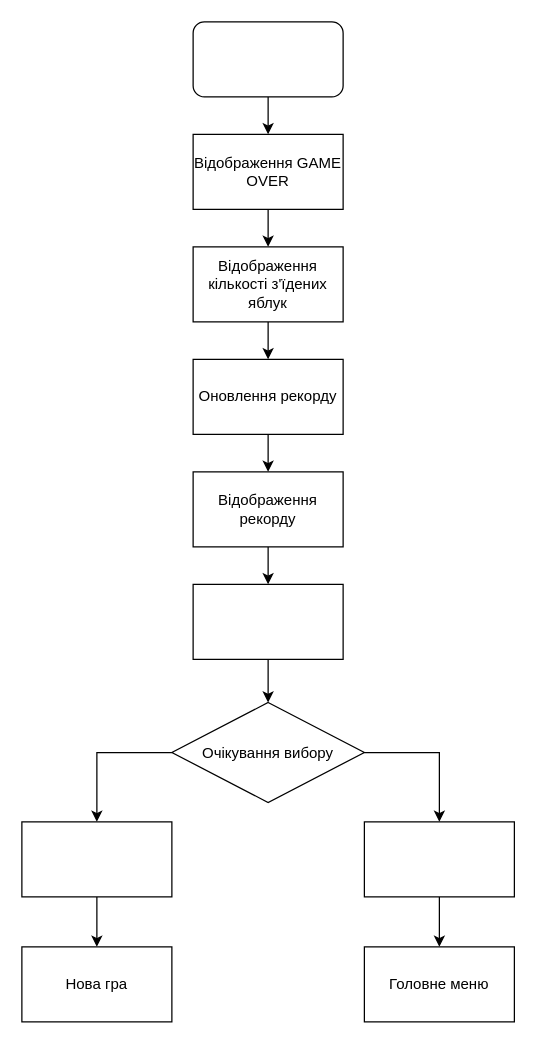
Image size: 536x1044. Some labels were removed from this diagram. The shapes that lost their labels are listed below. From the top down, each one's centre as x and y in pixels, then its label:
At (267,59): "Екран програшу".
At (267,621): "Показати кнопки".
At (96,859): "Скидання гри".
At (438,859): "Повернення до меню".
